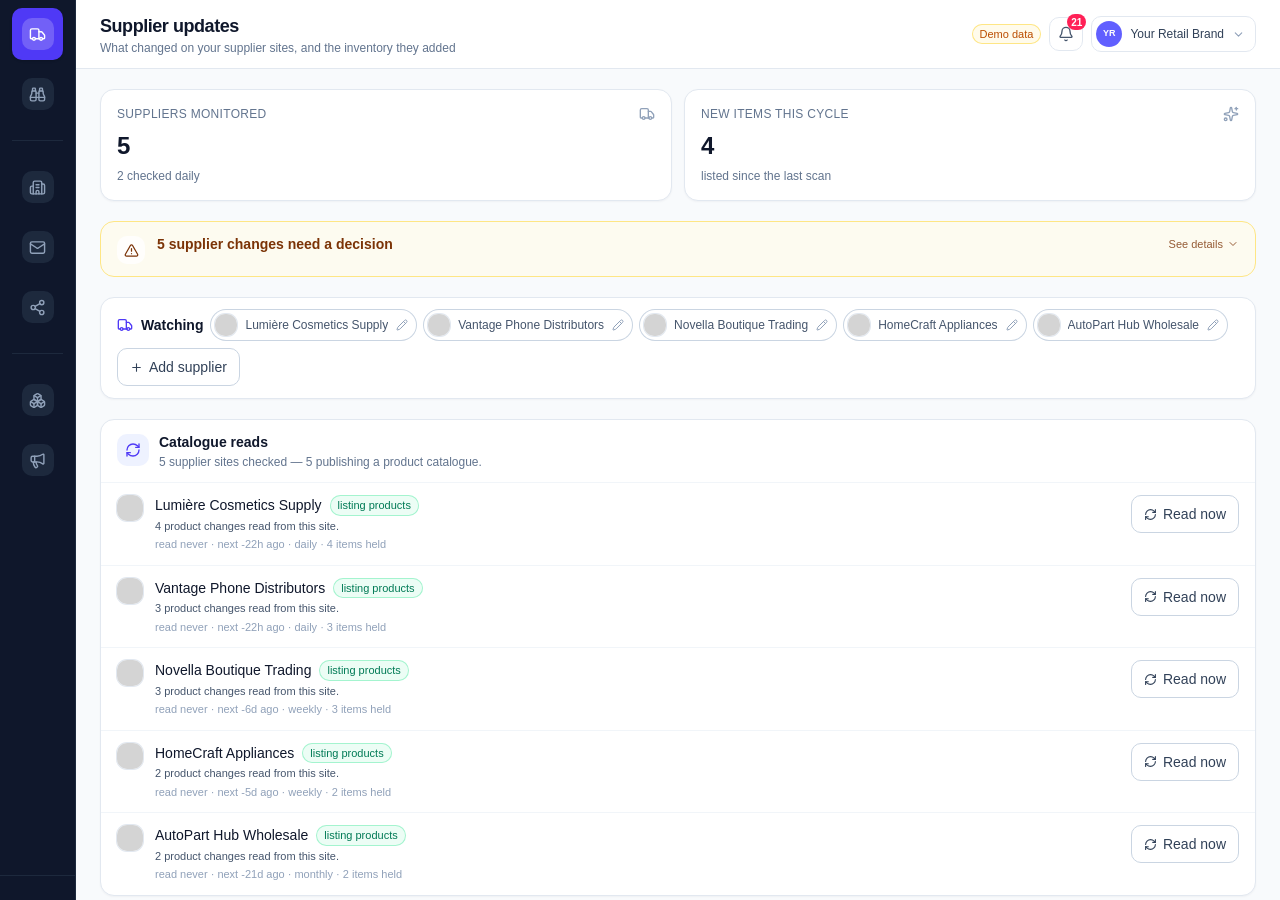
Test: Market Watch app › keeps competitor alerts out of the customer messaging configuration
Click the button named "Email list & message schedule".
click(38, 247)  # box [12,221,63,273]
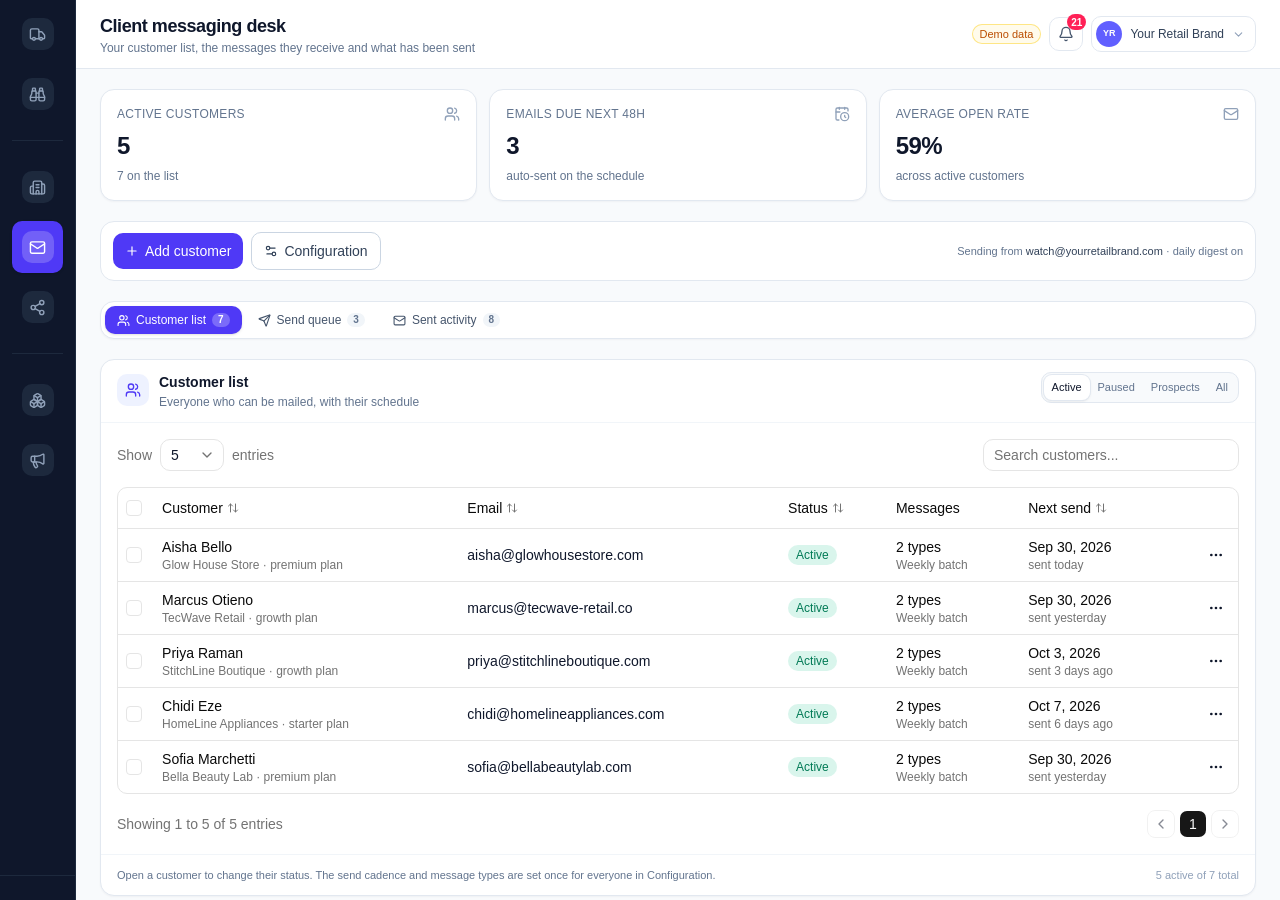
Click the button "Configuration".
click(316, 251)  # box [251,232,381,270]
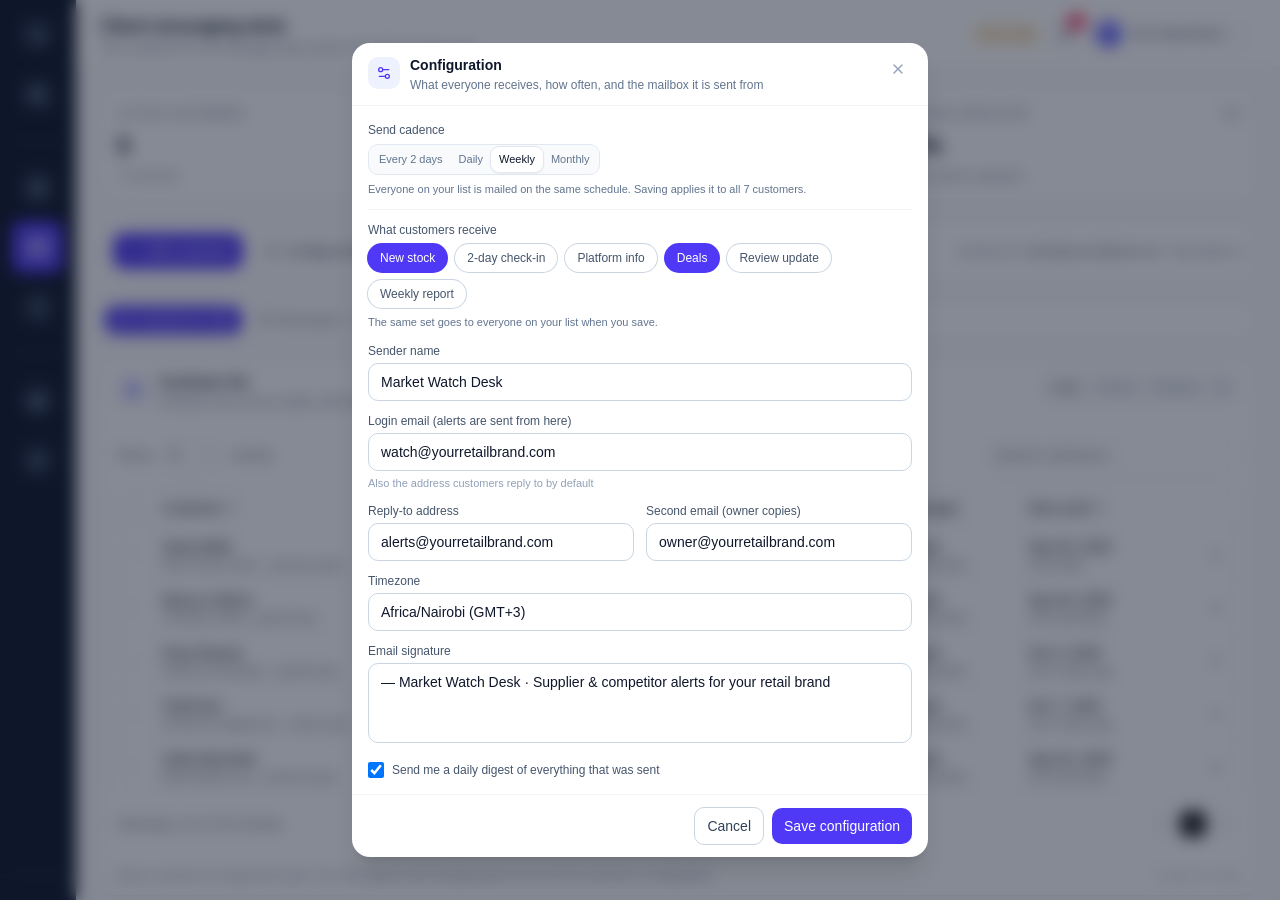
Expected: the text "Competitor alert" is not shown
Expected: the dialog shows "What customers receive", [368,223,497,237]
Expected: the dialog shows "Send cadence", [368,123,445,137]
